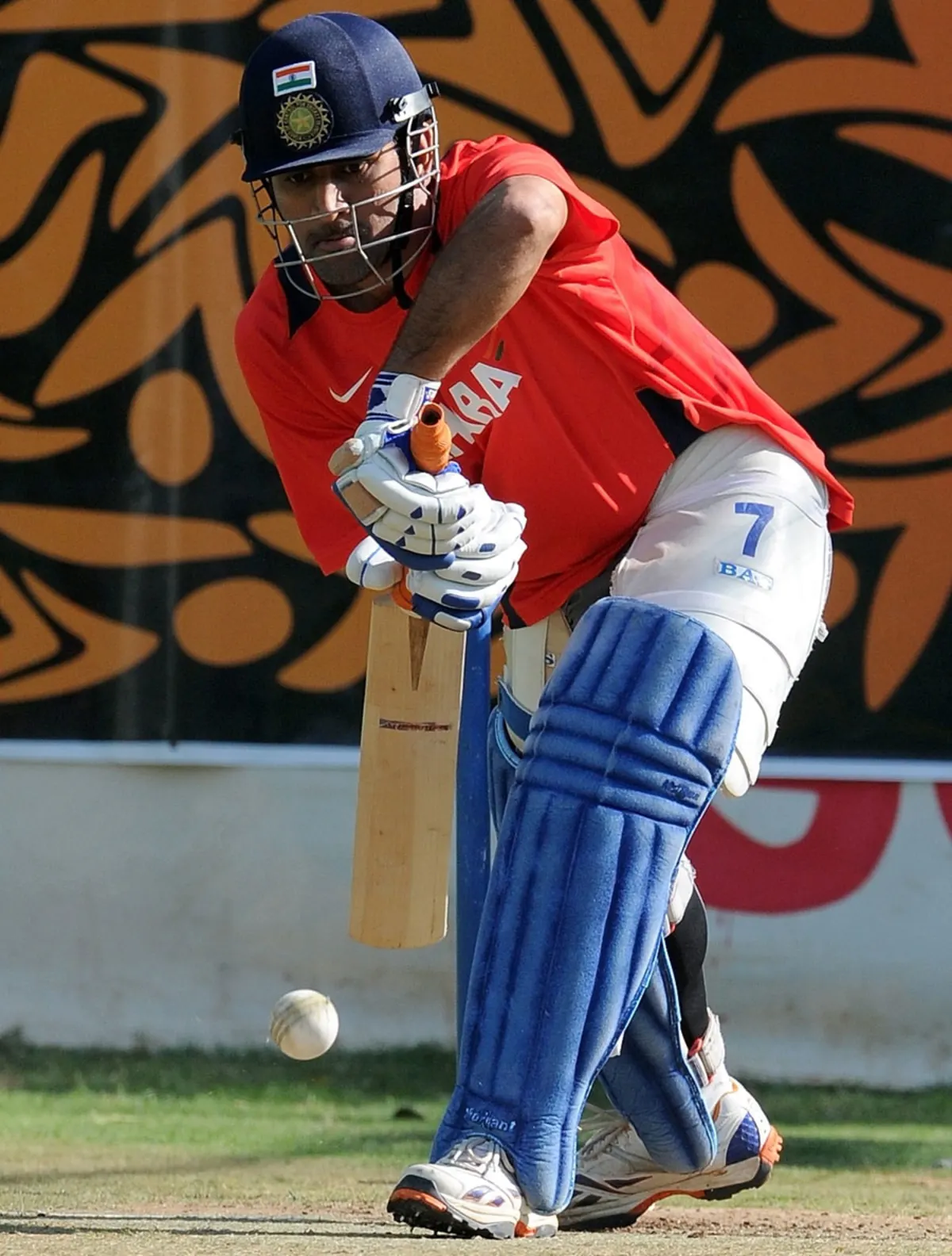Defence: (5, 11, 931, 1246)
